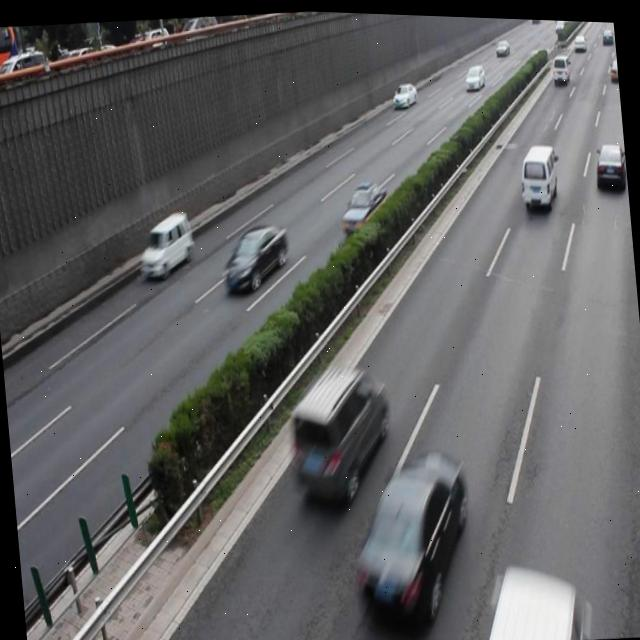car: (343, 438, 473, 623), (282, 356, 389, 504), (219, 218, 290, 292), (135, 207, 196, 277), (338, 176, 390, 229), (591, 136, 625, 186)
truck: (472, 558, 576, 640), (516, 137, 558, 204)
